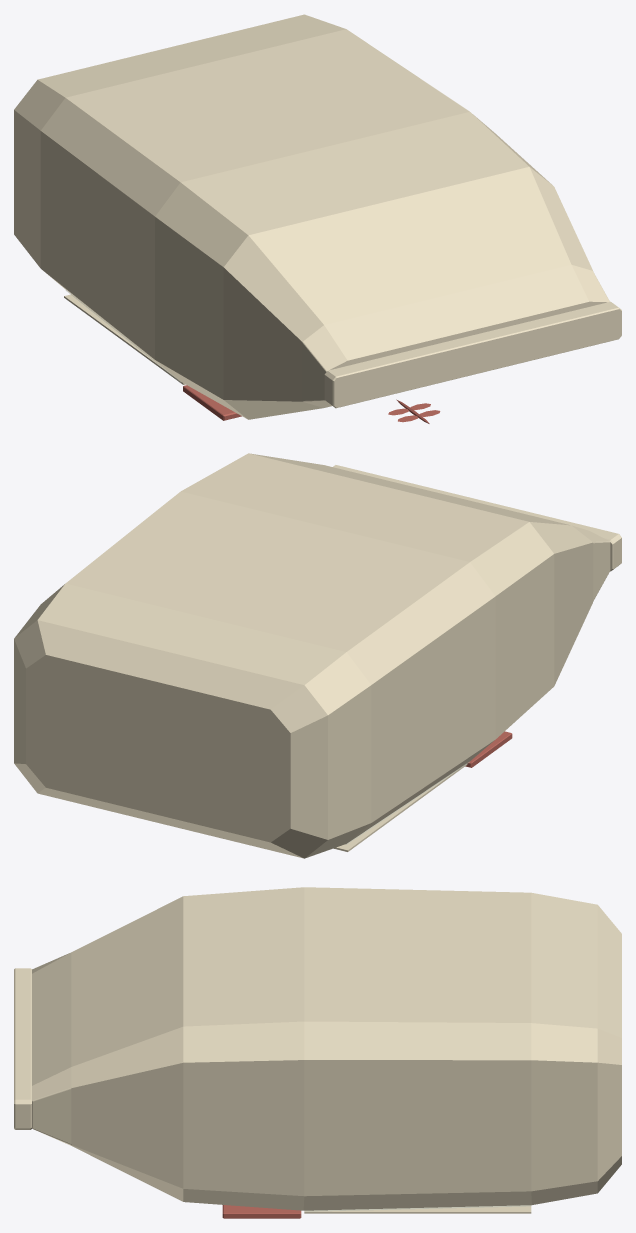
The model's file is quinoa.glb.
The picture shows the model from 3 angles, top to bottom: view 1: azimuth 30°, elevation 25°; view 2: azimuth 150°, elevation 25°; view 3: azimuth 270°, elevation 25°; orthographic projection. The views are drawn at different scales.
Visible parts, largest first — view 1: quinoa; view 2: quinoa; view 3: quinoa.
Boxes of the visible parts, left/top/right/bottom form: quinoa: left=14, top=14, right=621, bottom=423; quinoa: left=14, top=453, right=621, bottom=858; quinoa: left=14, top=887, right=621, bottom=1218.
Size of the model in its own units: 0.1236 by 0.0721 by 0.201.
